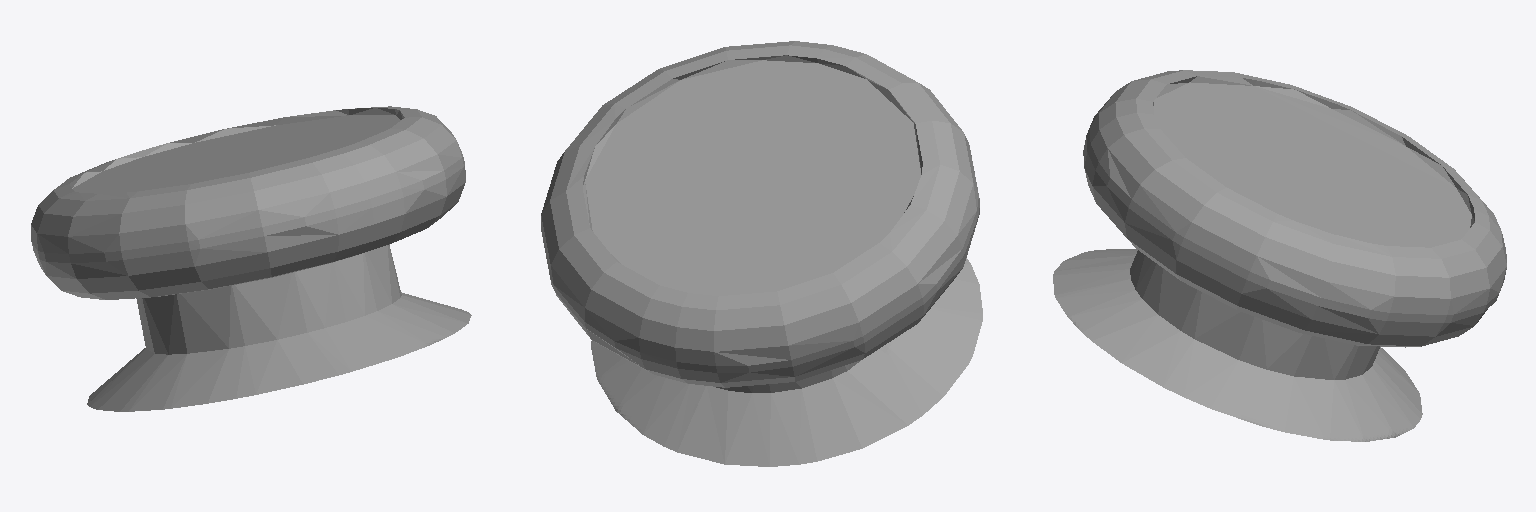
3 renders of one model, left to right at view 1: azimuth 30°, elevation 25°; view 2: azimuth 150°, elevation 25°; view 3: azimuth 270°, elevation 25°, orthographic.
Parts seen in each view (by area): view 1: thumbstick_r_body.005; view 2: thumbstick_r_body.005; view 3: thumbstick_r_body.005.
Part boxes in pixels (bbox=[...]): thumbstick_r_body.005: bbox=[31, 106, 471, 411]; thumbstick_r_body.005: bbox=[541, 41, 982, 466]; thumbstick_r_body.005: bbox=[1053, 70, 1506, 441].
Bounding box in the file's own units: 0.016 × 0.0121 × 0.0165.
Materials: 1 (1 with a texture image).